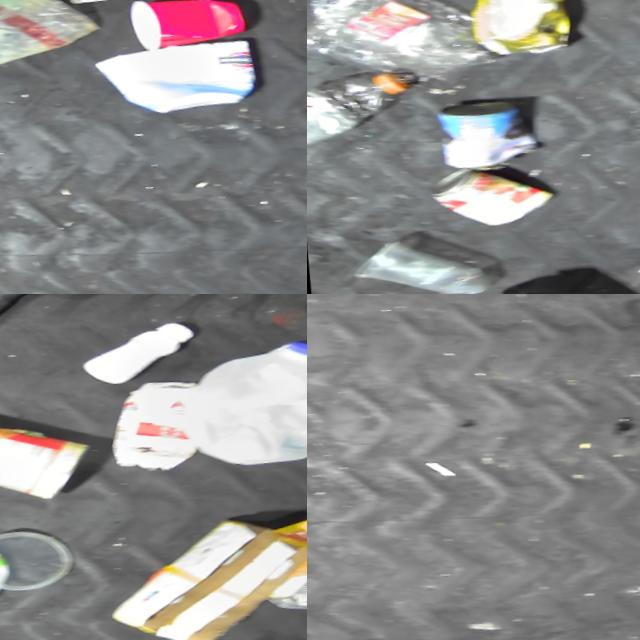can: (0, 391, 101, 511), (433, 155, 561, 237), (432, 87, 548, 169)
milk_jug: (178, 307, 307, 473)
non_white_jug: (458, 0, 599, 62)
plastic_bottle: (307, 0, 465, 76), (307, 57, 418, 156)
